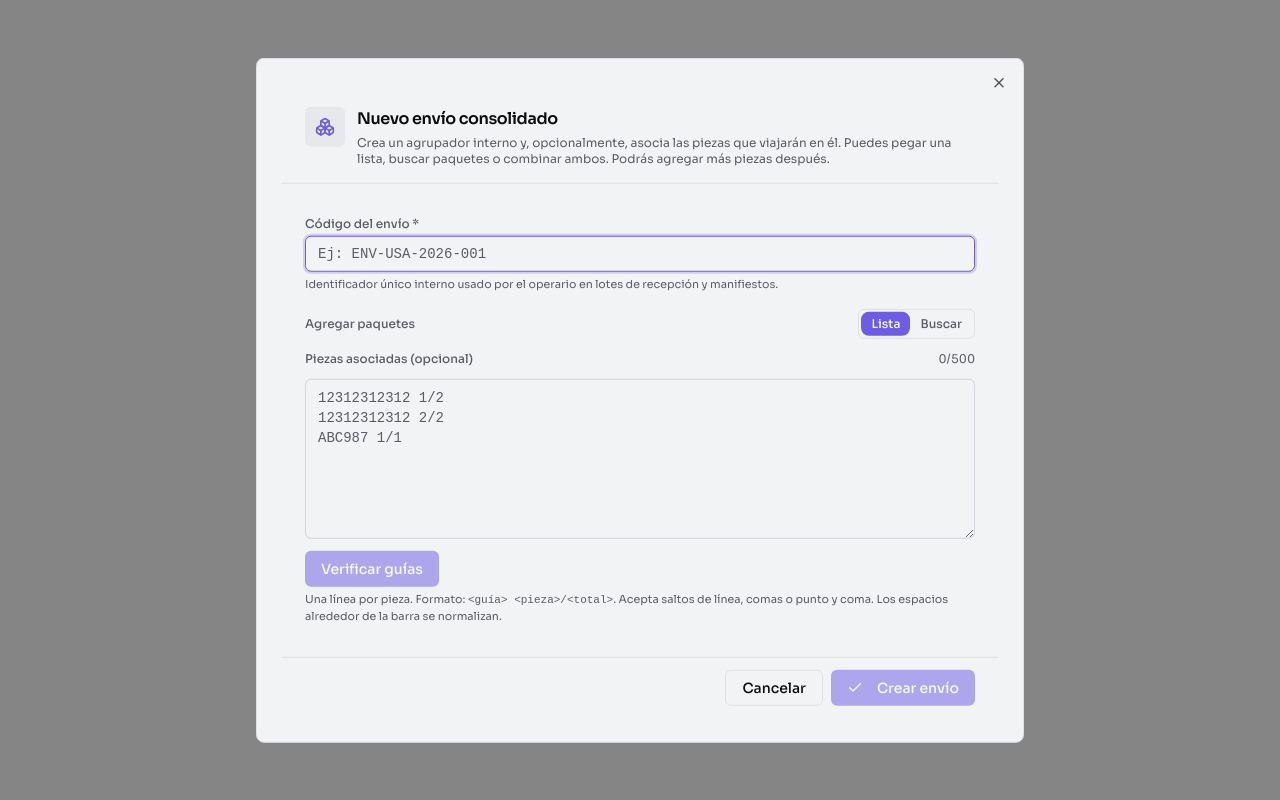
CrearEnvioConGuiasDialog › permite buscar y seleccionar un paquete, reflejándolo en el conteo del botón
The image size is (1280, 800).
Click the button "Buscar": (941, 323) [910, 311, 972, 335]
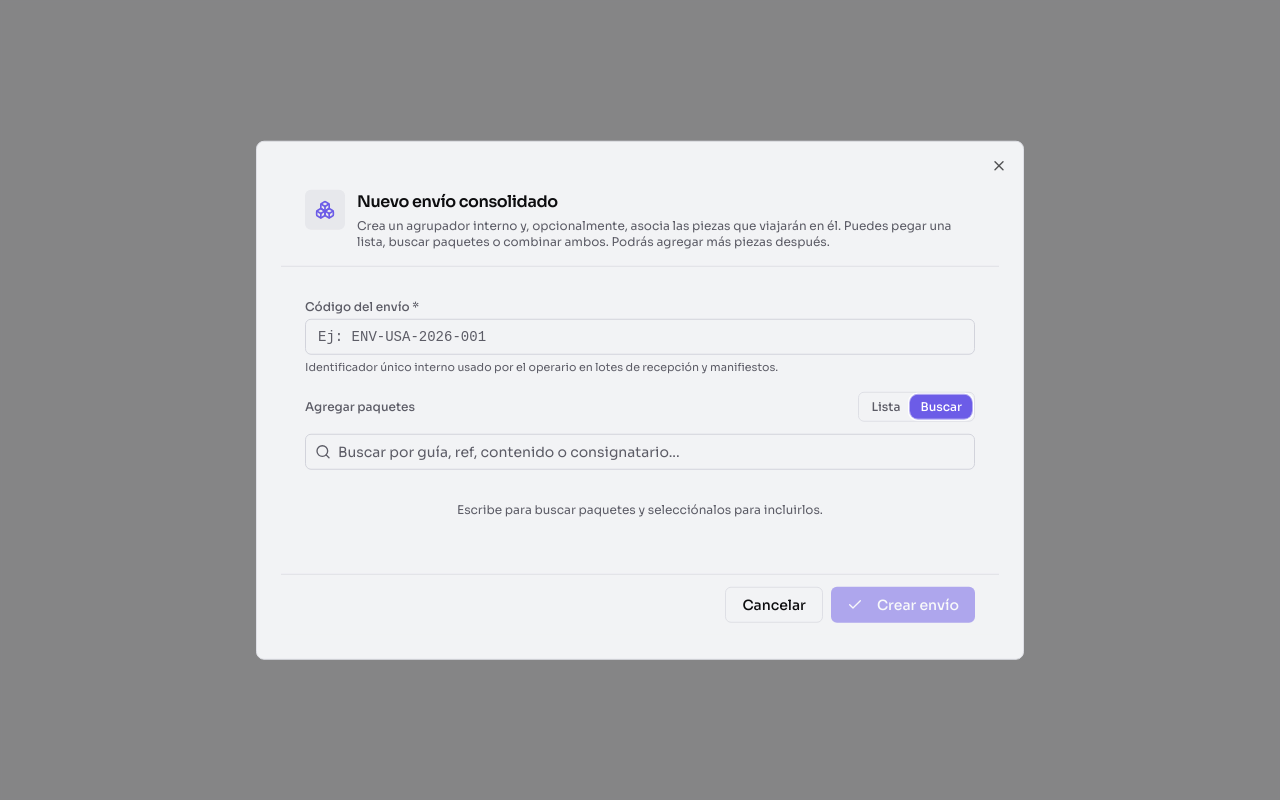
In the field with placeholder "Buscar por guía, ref, contenido o consignatario...": (640, 451) [305, 433, 975, 469], type "OK"
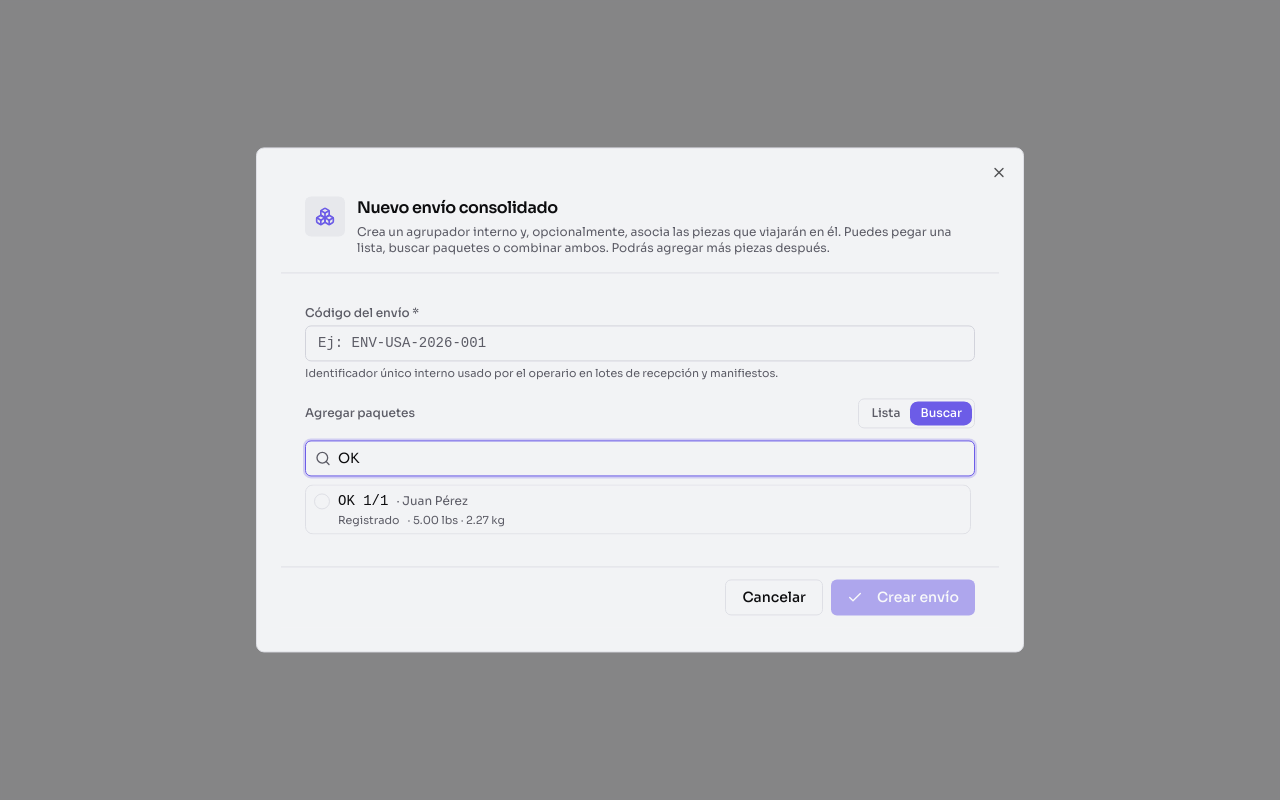
Click the button "OK 1/1 · Juan Pérez Registrado · 5.00 lbs · 2.27 kg": (363, 501) [305, 484, 971, 535]
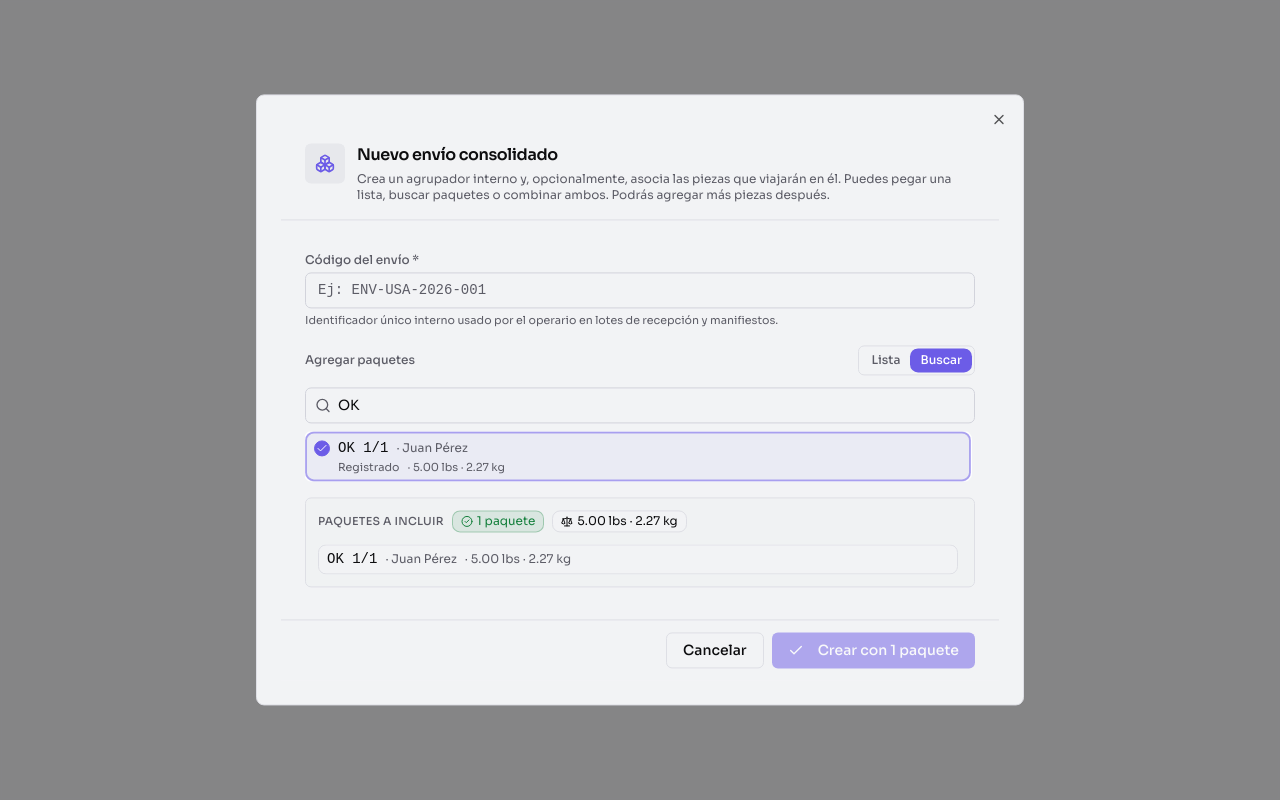
Check: the text "Paquetes a incluir" is shown, box [318, 513, 444, 530]
Check: the button "Crear con 1 paquete" is shown, box [772, 633, 975, 669]
